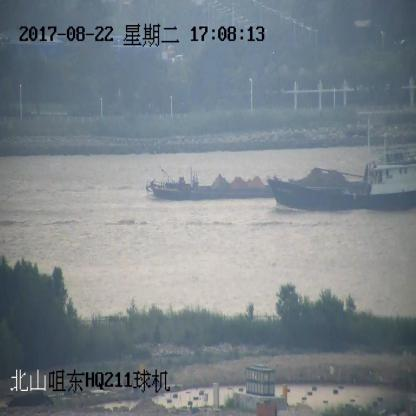Fishing Boat: (269, 138, 416, 213)
